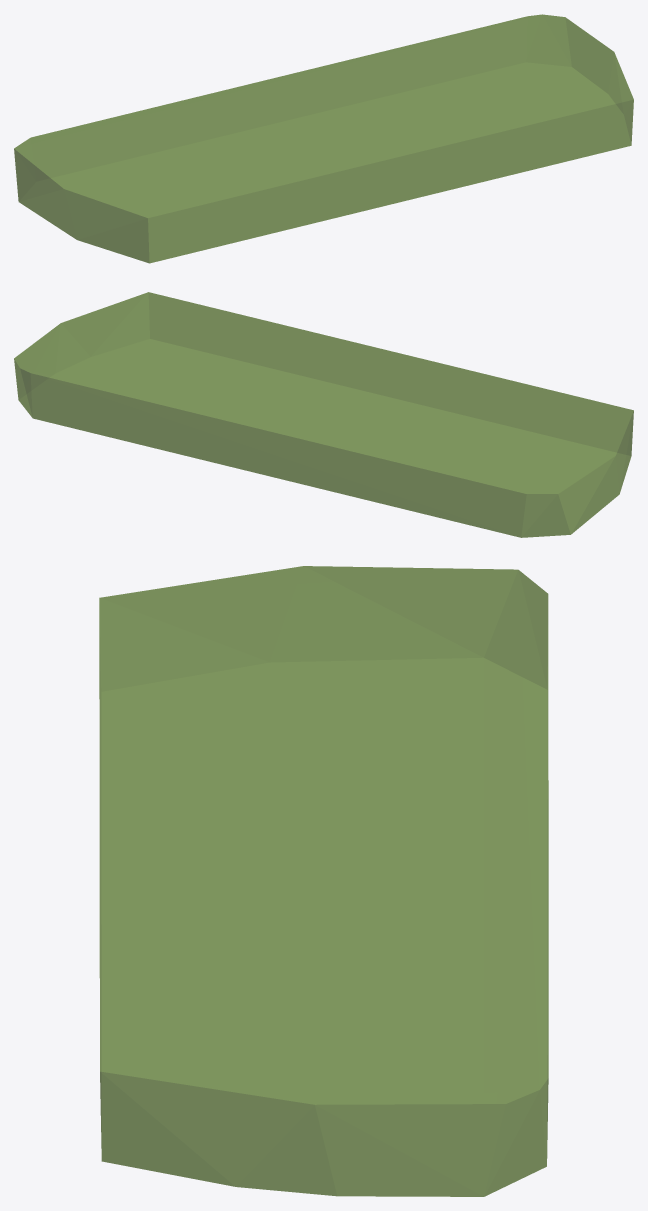
3 views of the same model, one above another, from view 1: azimuth 30°, elevation 25°; view 2: azimuth 150°, elevation 25°; view 3: azimuth 270°, elevation 25° (orthographic). The views are drawn at different scales.
Visible parts, largest first — view 1: Shape_IndexedFaceSet.162_Shape_IndexedFaceSet.9209; view 2: Shape_IndexedFaceSet.162_Shape_IndexedFaceSet.9209; view 3: Shape_IndexedFaceSet.162_Shape_IndexedFaceSet.9209.
Boxes of the visible parts, x1,y1,x2,y2 form: Shape_IndexedFaceSet.162_Shape_IndexedFaceSet.9209: [14, 14, 633, 263]; Shape_IndexedFaceSet.162_Shape_IndexedFaceSet.9209: [14, 292, 633, 537]; Shape_IndexedFaceSet.162_Shape_IndexedFaceSet.9209: [99, 566, 548, 1196].
Bounding box in the file's own units: 0.7231 × 0.0577 × 0.2547.
